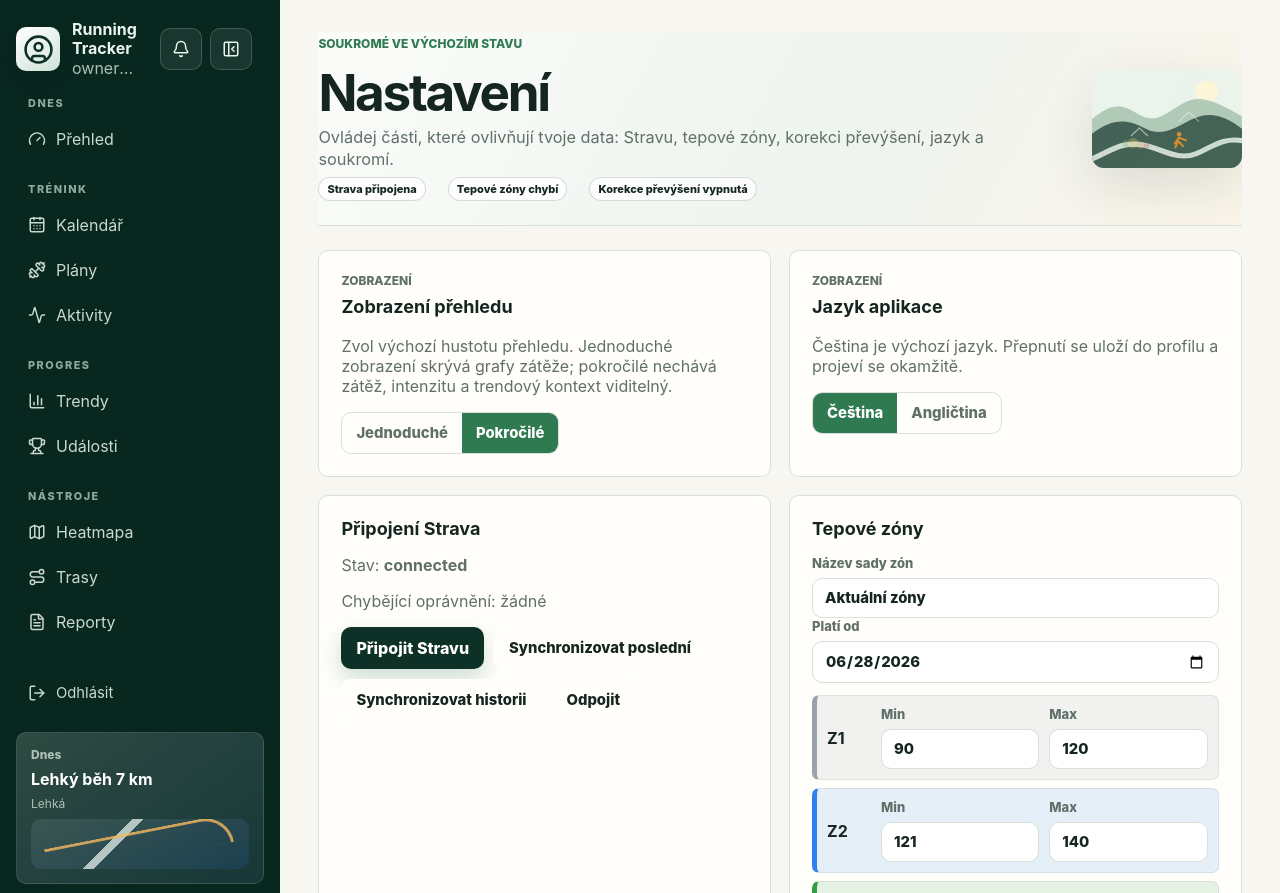
Test case: SettingsPage › refreshes the today sidebar card after a Settings Strava sync finishes
Expected: the text "Lehký běh 7 km" is shown, [31,769,153,789]
Click the button "Synchronizovat poslední". click: (600, 648)
box: [494,628,706,670]
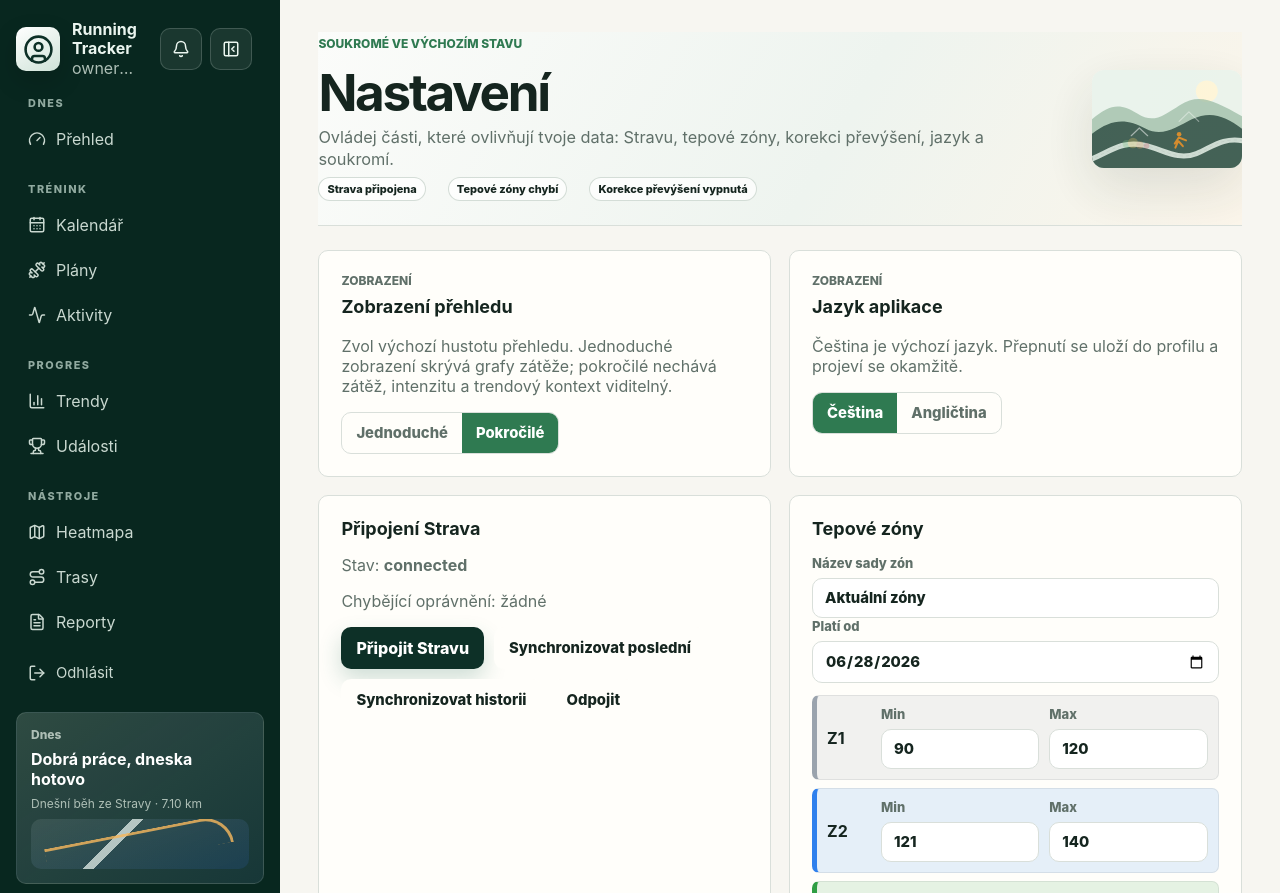
Expected: the text "Dobrá práce, dneska hotovo" is shown, [31,749,192,789]
Expected: the text "Dnešní běh ze Stravy · 7.10 km" is shown, [31,796,202,811]
